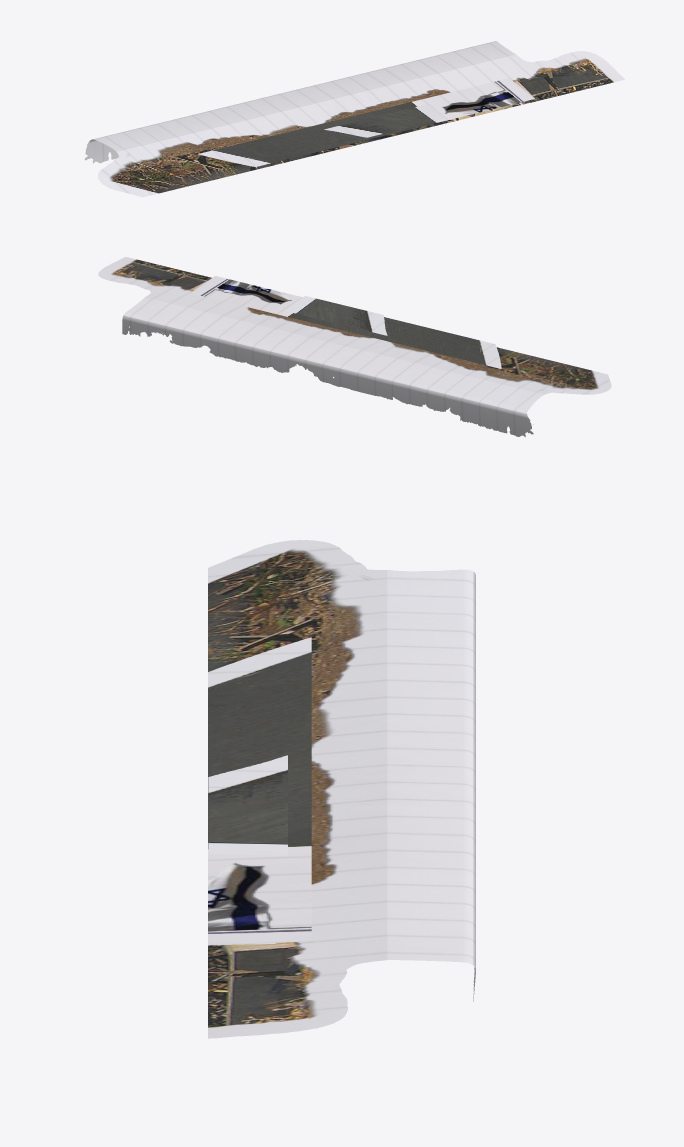
File: mezpe_gadoe_Memo.FBX
The picture shows the model from 3 angles, top to bottom: view 1: azimuth 30°, elevation 25°; view 2: azimuth 150°, elevation 25°; view 3: azimuth 270°, elevation 25°; orthographic projection. The views are drawn at different scales.
Visible parts, largest first — view 1: Object043, Plane014, Object041, Object039; view 2: Plane014, Object043, Object041, Object039; view 3: Object043, Plane014, Object041, Object039.
Boxes of the visible parts, <box> form: Object043: <box>98,51,624,197</box>; Plane014: <box>84,41,515,163</box>; Object041: <box>198,78,534,166</box>; Object039: <box>324,104,444,137</box>; Plane014: <box>122,297,544,437</box>; Object043: <box>98,257,611,394</box>; Object041: <box>190,276,501,368</box>; Object039: <box>284,296,387,335</box>; Object043: <box>208,540,387,1038</box>; Plane014: <box>387,569,475,1001</box>; Object041: <box>208,637,311,945</box>; Object039: <box>208,755,287,856</box>.
Size of the model in its own units: 1.77 by 0.3492 by 0.0953.
